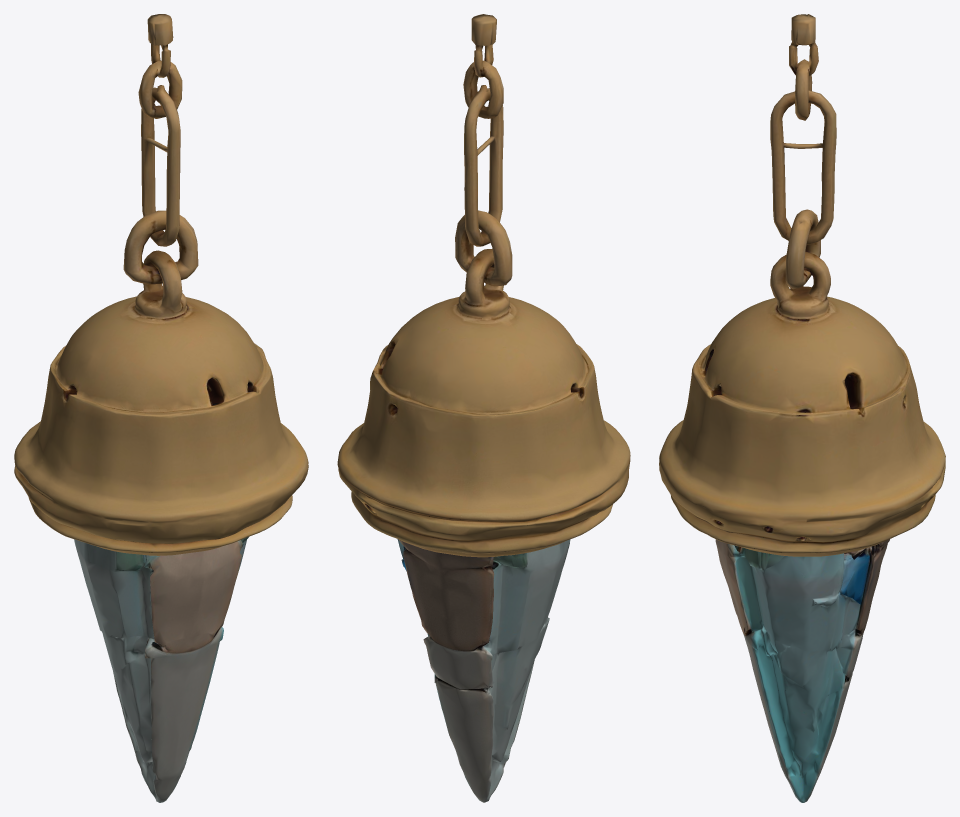
The model's file is pendulum.glb.
The picture shows the model from 3 angles, left to right: view 1: azimuth 30°, elevation 25°; view 2: azimuth 150°, elevation 25°; view 3: azimuth 270°, elevation 25°; orthographic projection.
Visible parts, largest first — view 1: tripo_node_10645c4d-6660-466f-99d1-82a2680f7e0f; view 2: tripo_node_10645c4d-6660-466f-99d1-82a2680f7e0f; view 3: tripo_node_10645c4d-6660-466f-99d1-82a2680f7e0f.
Boxes of the visible parts, x1,y1,x2,y2 form: tripo_node_10645c4d-6660-466f-99d1-82a2680f7e0f: (14, 14, 308, 802); tripo_node_10645c4d-6660-466f-99d1-82a2680f7e0f: (337, 14, 630, 802); tripo_node_10645c4d-6660-466f-99d1-82a2680f7e0f: (659, 14, 945, 802).
Size of the model in its own units: 0.33 by 0.9843 by 0.3252.
1 material, 1 textured.
